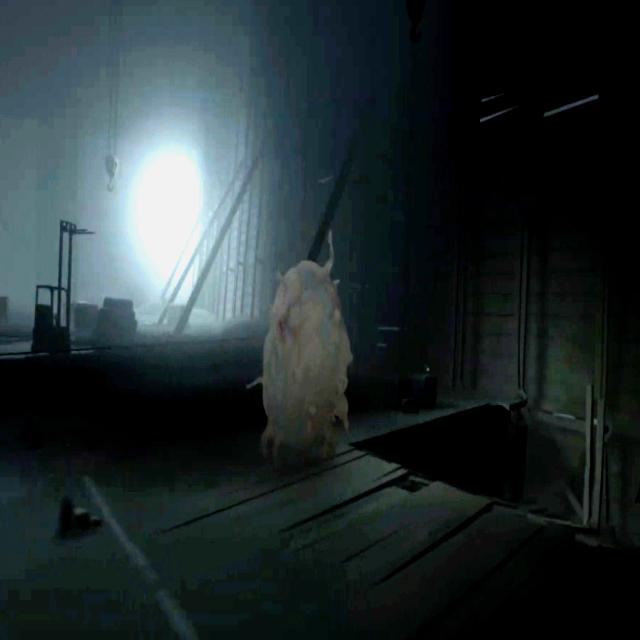blob: (247, 231, 354, 465)
